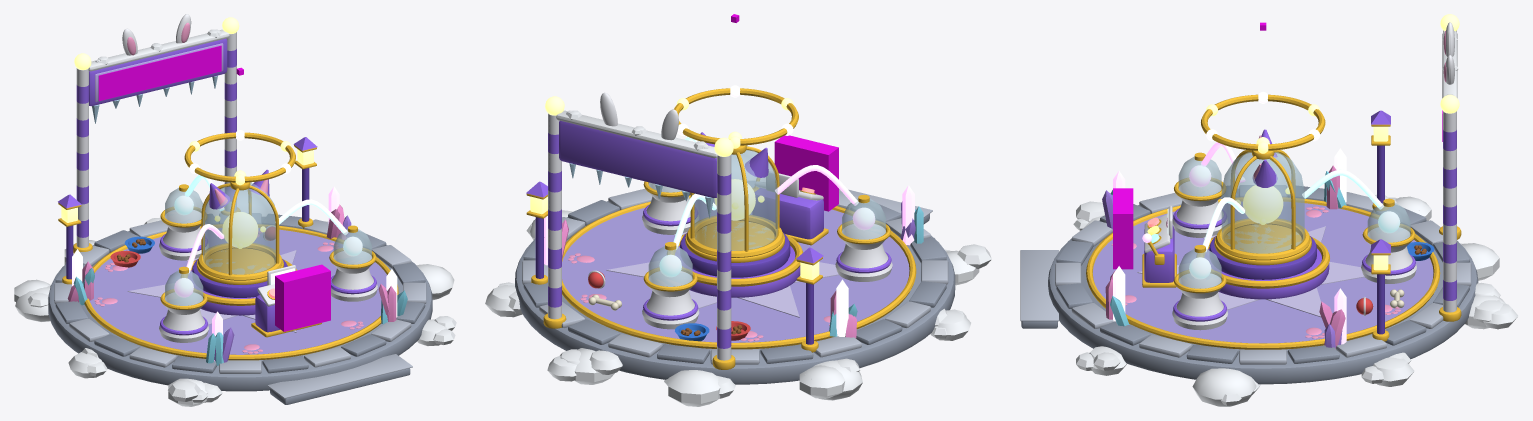
Rendered from PetFuser.fbx.
The picture shows the model from 3 angles, left to right: view 1: azimuth 30°, elevation 25°; view 2: azimuth 150°, elevation 25°; view 3: azimuth 270°, elevation 25°; orthographic projection. The views are drawn at different scales.
Parts seen in each view (by area): view 1: PetFuser__Floor__B0A6ECSP, PetFuser__Platform__96A0B2SP, PetFuser__RingStones__BEC6D6SP, PetFuser__Dome__C8EBFFGLT55, PetFuser__RingStones__96A0B2SP, PetFuser__Snow__F6FAFFSP, PetFuser__PodBase__F6F8FFSP, PetFuser__PodGlass__D2F0FFGLT50, FuserFX__SignFace__FF00FFSPT100, FuserFX__Prompt__FF00FFSPT100, PetFuser__FloorRing__FFC837SP, PetFuser__SignPosts0__F6F8FFSP (+31 smaller); view 2: PetFuser__Floor__B0A6ECSP, PetFuser__Snow__F6FAFFSP, PetFuser__Platform__96A0B2SP, PetFuser__SignBoard__9669F5SP, PetFuser__RingStones__96A0B2SP, PetFuser__PodBase__F6F8FFSP, PetFuser__RingStones__BEC6D6SP, PetFuser__Dome__C8EBFFGLT55, PetFuser__FloorRing__FFC837SP, PetFuser__SignPosts0__F6F8FFSP, PetFuser__PodGlass__D2F0FFGLT50, FuserFX__Prompt__FF00FFSPT100 (+29 smaller); view 3: PetFuser__Floor__B0A6ECSP, PetFuser__Platform__96A0B2SP, PetFuser__Snow__F6FAFFSP, PetFuser__RingStones__BEC6D6SP, PetFuser__Dome__C8EBFFGLT55, PetFuser__RingStones__96A0B2SP, PetFuser__PodBase__F6F8FFSP, PetFuser__PodGlass__D2F0FFGLT50, PetFuser__FloorRing__FFC837SP, PetFuser__StepTop__BEC6D6SP, PetFuser__DomeBase__FFC837SP, PetFuser__FloorStar__D6D0FASP (+28 smaller).
Part boxes in pixels (<box>): PetFuser__Floor__B0A6ECSP: <box>90,228,387,354</box>; PetFuser__Platform__96A0B2SP: <box>48,217,432,391</box>; PetFuser__RingStones__BEC6D6SP: <box>54,213,426,373</box>; PetFuser__Dome__C8EBFFGLT55: <box>203,182,275,274</box>; PetFuser__RingStones__96A0B2SP: <box>55,214,425,373</box>; PetFuser__Snow__F6FAFFSP: <box>14,217,456,406</box>; PetFuser__PodBase__F6F8FFSP: <box>159,210,377,342</box>; PetFuser__PodGlass__D2F0FFGLT50: <box>165,188,371,305</box>; FuserFX__SignFace__FF00FFSPT100: <box>98,45,221,101</box>; FuserFX__Prompt__FF00FFSPT100: <box>275,264,330,331</box>; PetFuser__FloorRing__FFC837SP: <box>84,224,398,360</box>; PetFuser__SignPosts0__F6F8FFSP: <box>76,32,236,247</box>; PetFuser__Floor__B0A6ECSP: <box>562,198,909,342</box>; PetFuser__Snow__F6FAFFSP: <box>485,210,991,406</box>; PetFuser__Platform__96A0B2SP: <box>515,201,955,384</box>; PetFuser__SignBoard__9669F5SP: <box>559,120,716,197</box>; PetFuser__RingStones__96A0B2SP: <box>523,200,946,363</box>; PetFuser__PodBase__F6F8FFSP: <box>642,183,892,329</box>; PetFuser__RingStones__BEC6D6SP: <box>522,181,948,364</box>; PetFuser__Dome__C8EBFFGLT55: <box>694,145,777,250</box>; PetFuser__FloorRing__FFC837SP: <box>562,195,916,349</box>; PetFuser__SignPosts0__F6F8FFSP: <box>548,113,731,360</box>; PetFuser__PodGlass__D2F0FFGLT50: <box>648,182,885,286</box>; FuserFX__Prompt__FF00FFSPT100: <box>774,135,838,211</box>; PetFuser__Floor__B0A6ECSP: <box>1093,202,1433,343</box>; PetFuser__Platform__96A0B2SP: <box>1048,189,1478,384</box>; PetFuser__Snow__F6FAFFSP: <box>1073,194,1517,406</box>; PetFuser__RingStones__BEC6D6SP: <box>1055,185,1471,364</box>; PetFuser__Dome__C8EBFFGLT55: <box>1221,152,1304,253</box>; PetFuser__RingStones__96A0B2SP: <box>1056,186,1469,363</box>; PetFuser__PodBase__F6F8FFSP: <box>1172,181,1416,330</box>; PetFuser__PodGlass__D2F0FFGLT50: <box>1178,156,1410,288</box>; PetFuser__FloorRing__FFC837SP: <box>1086,197,1440,349</box>; PetFuser__StepTop__BEC6D6SP: <box>1020,250,1058,321</box>; PetFuser__DomeBase__FFC837SP: <box>1214,224,1311,265</box>; PetFuser__FloorStar__D6D0FASP: <box>1137,226,1364,317</box>.
Bounding box in the file's own units: 24.32 × 15.57 × 24.52.
